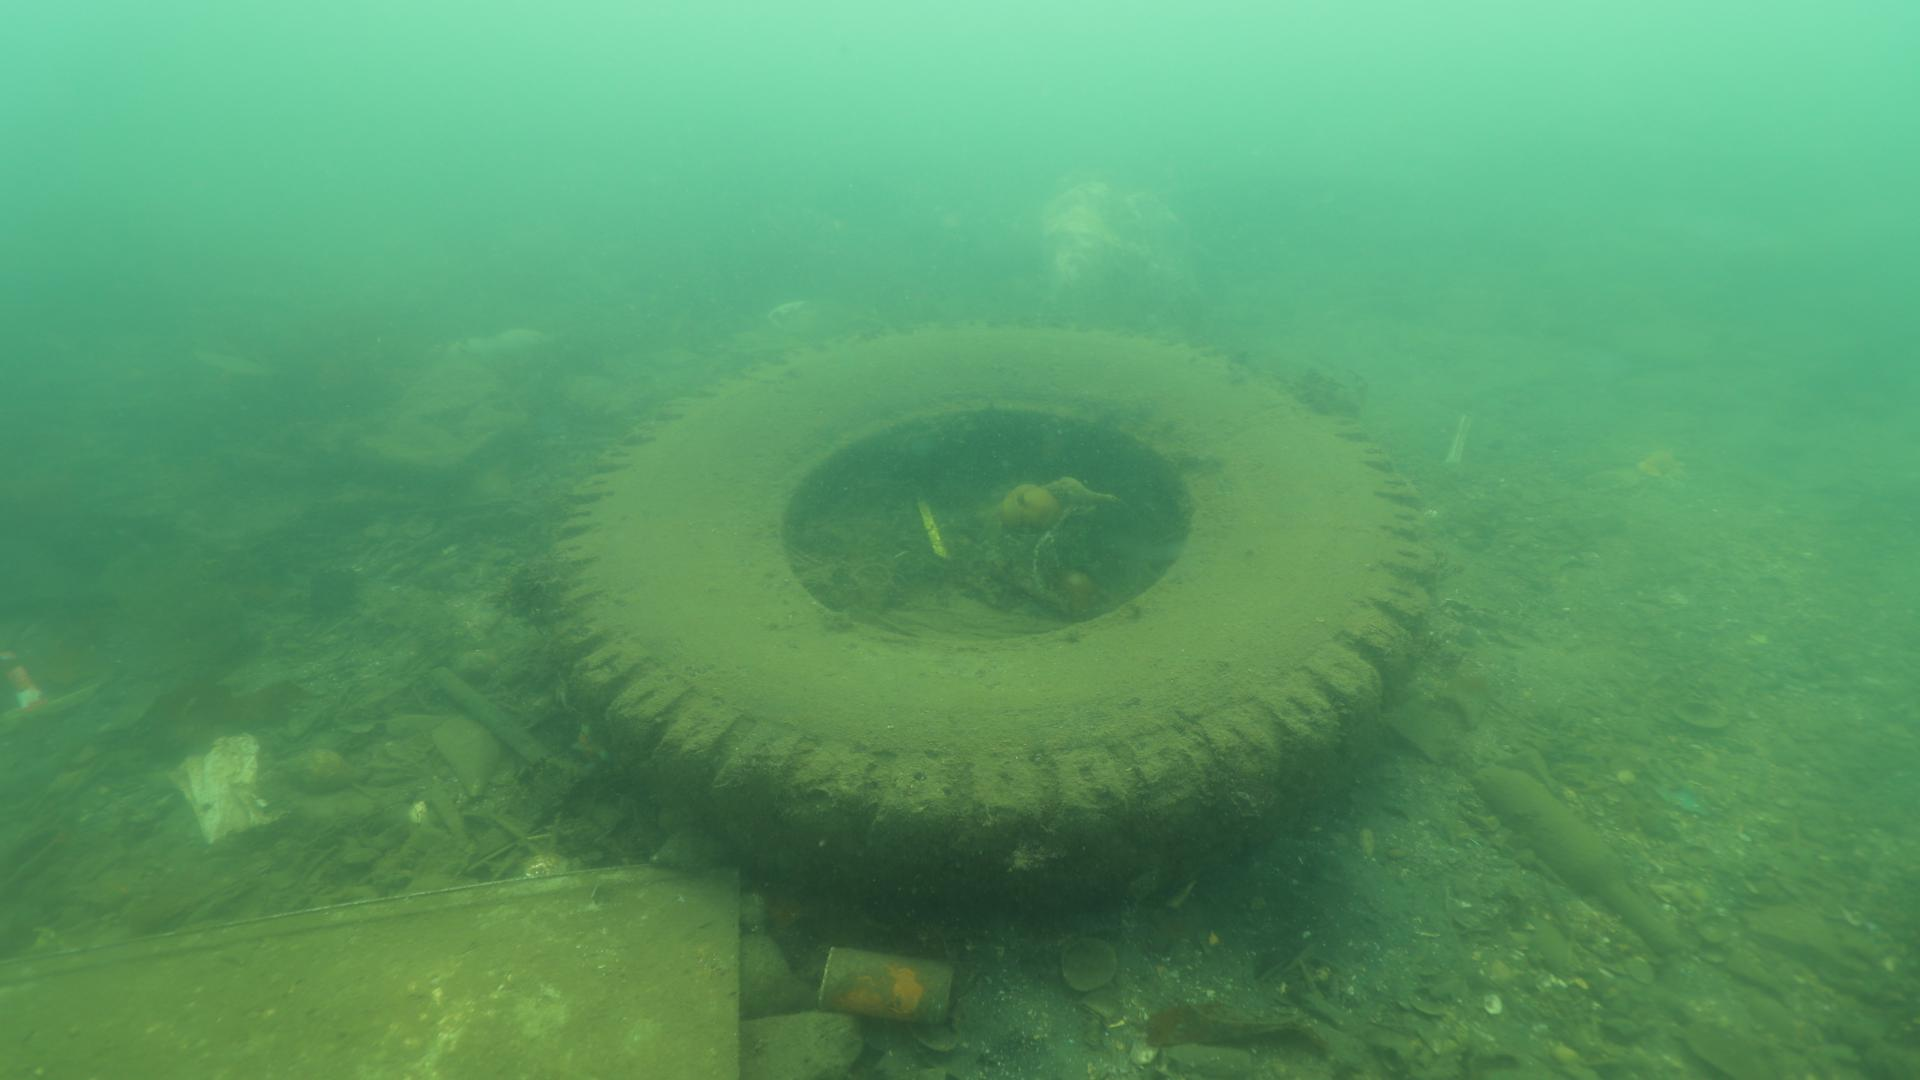tire: (545, 309, 1443, 918)
